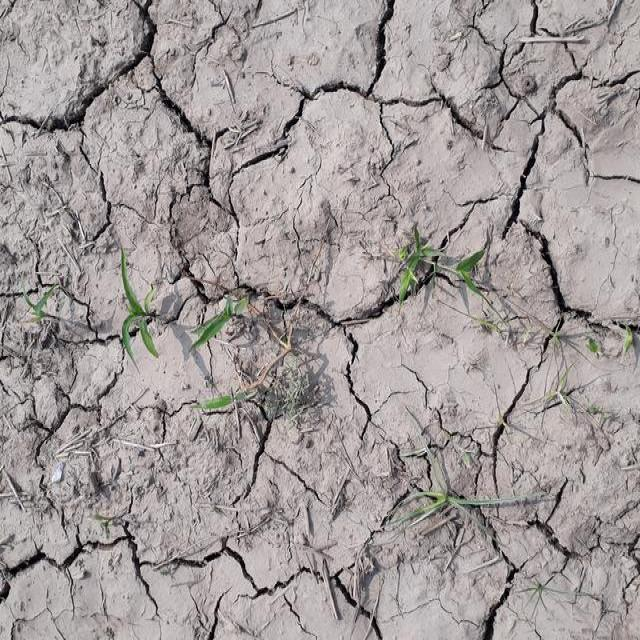weed: (96, 260, 258, 353), (379, 214, 503, 320)
